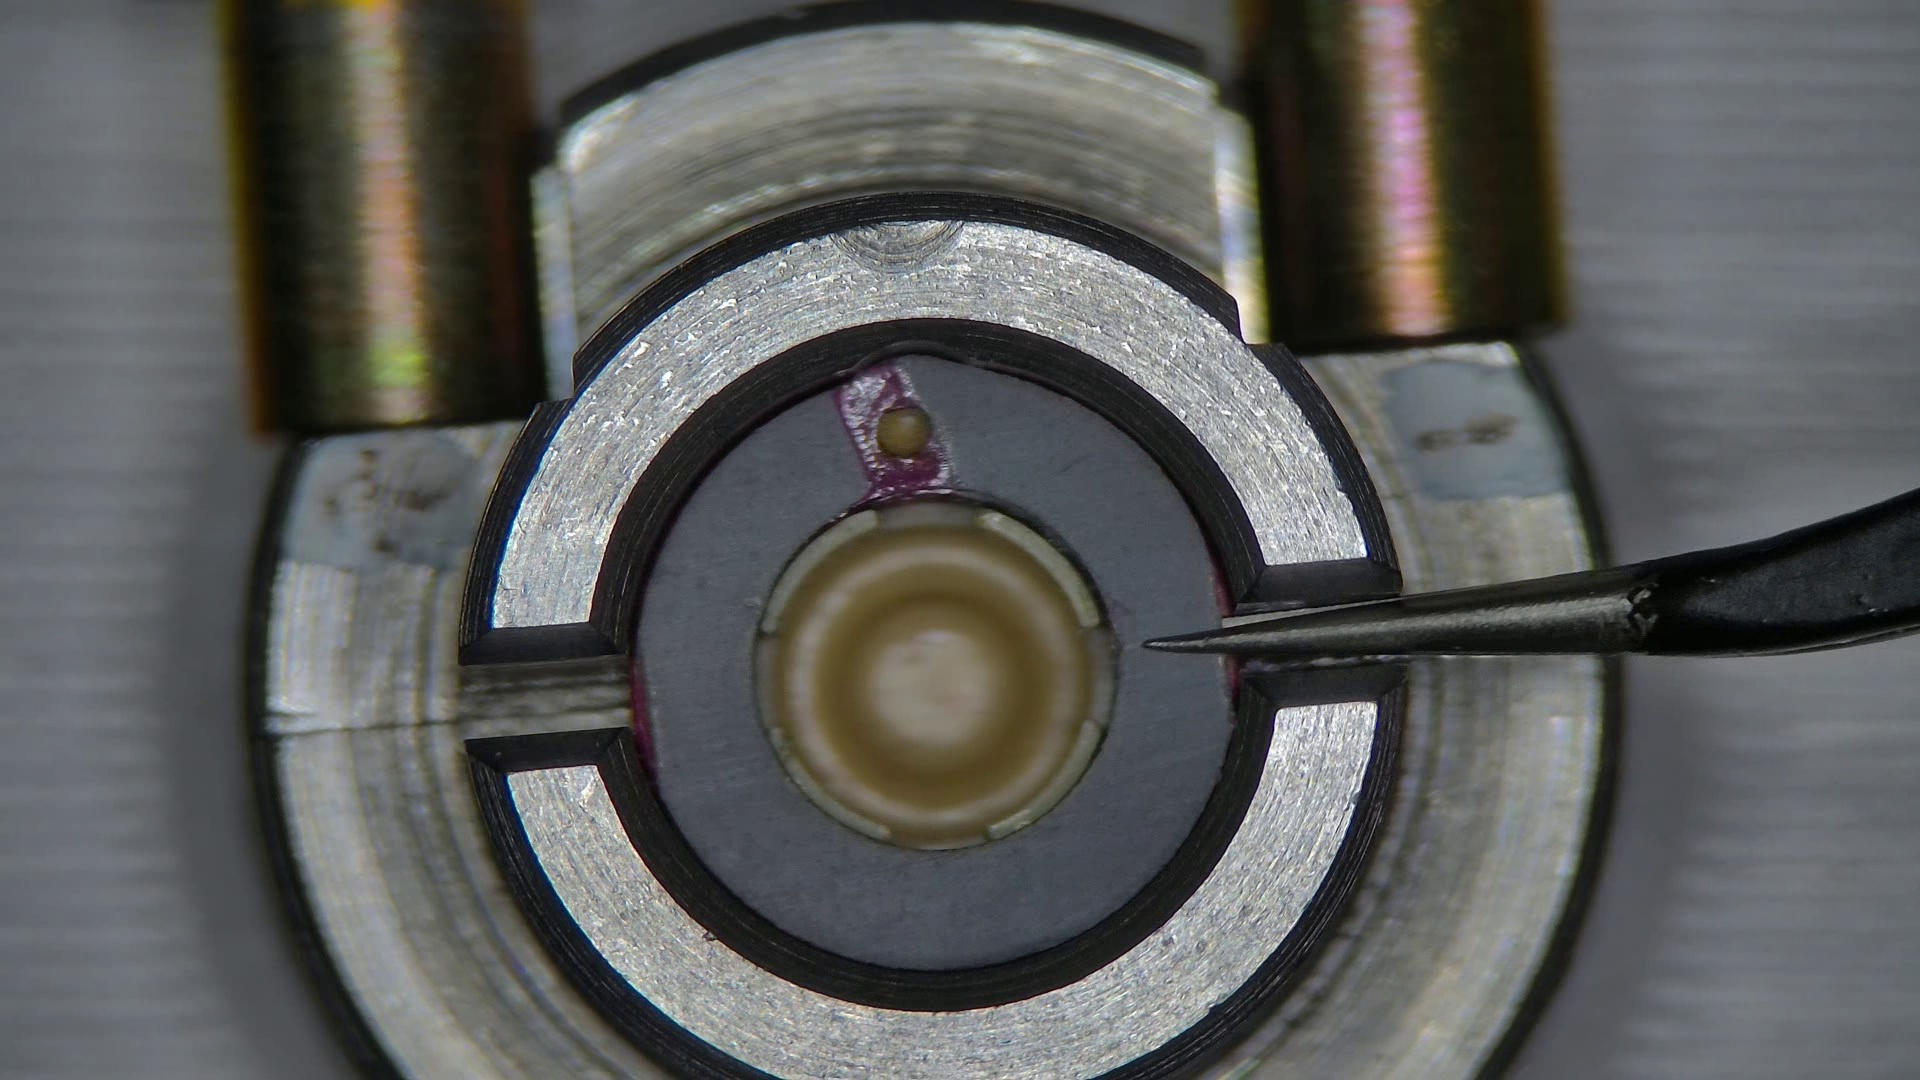YellowOring: (640, 357, 1225, 972)
